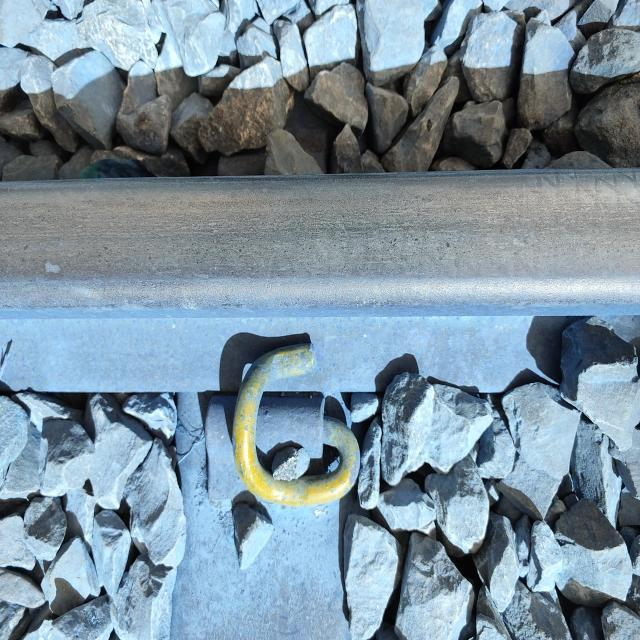Good Fasteners: (190, 322, 361, 519)
